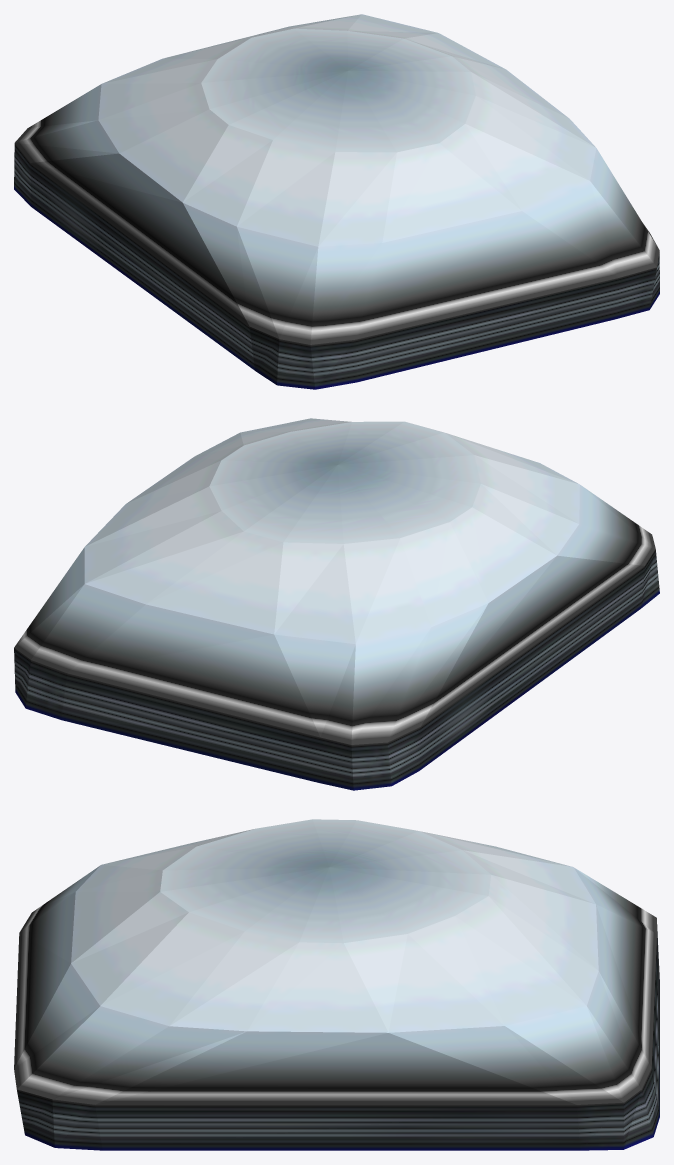
The model's file is Ministerium_Kuppel_2507.glb.
3 renders of one model, top to bottom at view 1: azimuth 30°, elevation 25°; view 2: azimuth 150°, elevation 25°; view 3: azimuth 270°, elevation 25°, orthographic. The views are drawn at different scales.
Parts seen in each view (by area): view 1: pSphereShape1; view 2: pSphereShape1; view 3: pSphereShape1.
Part boxes in pixels (x1,y1,x2,y2): pSphereShape1: (14, 14, 659, 389); pSphereShape1: (14, 418, 659, 790); pSphereShape1: (14, 819, 659, 1150).
Bounding box in the file's own units: 1.53 × 0.6423 × 2.03.
1 material, 1 textured.
